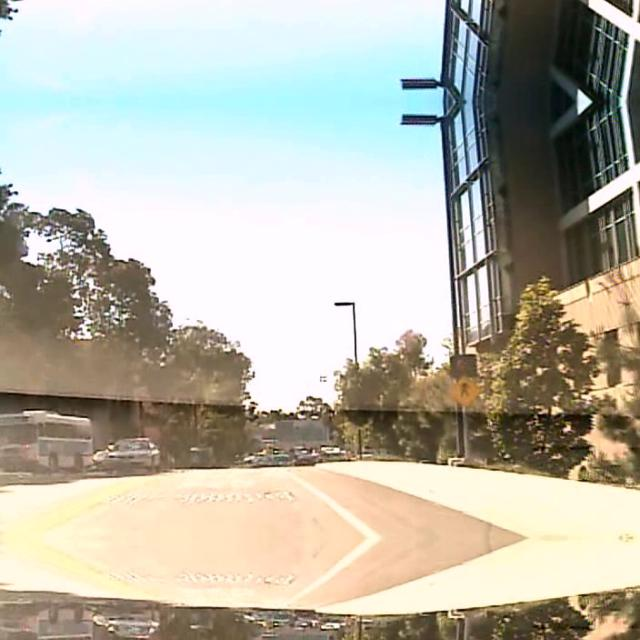pedestrianCrossing: (446, 372, 480, 406)
